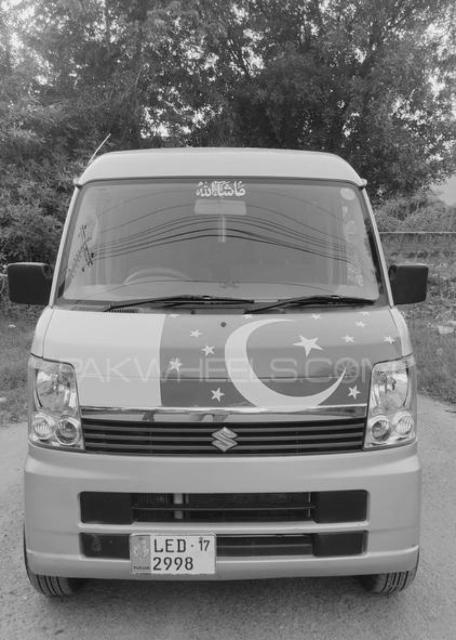Number: (152, 538, 194, 574)
